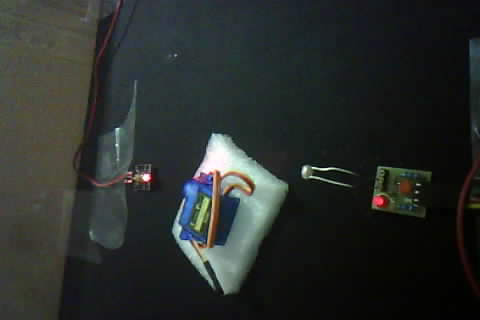motor: (171, 142, 283, 290)
